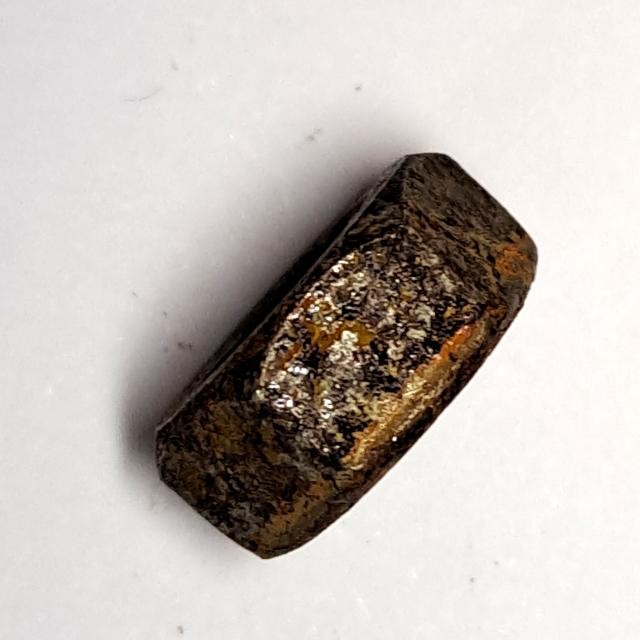Side_Rust: (136, 139, 547, 572)
